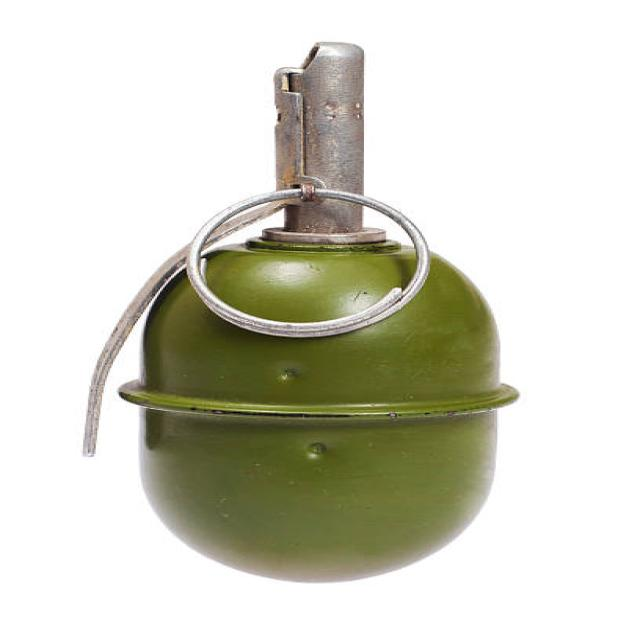grenade: (67, 35, 539, 589)
